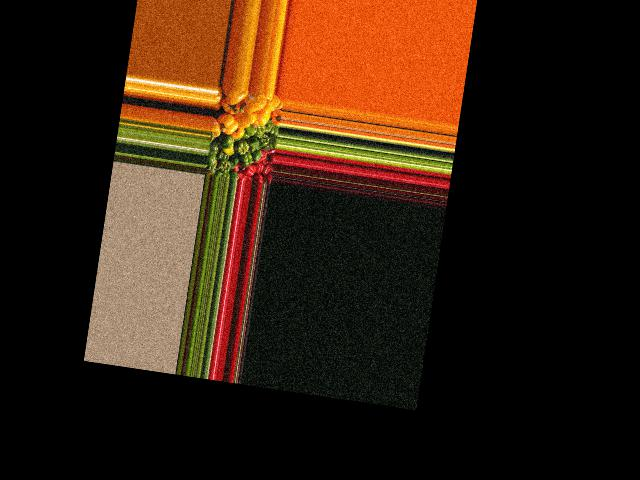bell_pepper: (203, 158, 217, 176)
